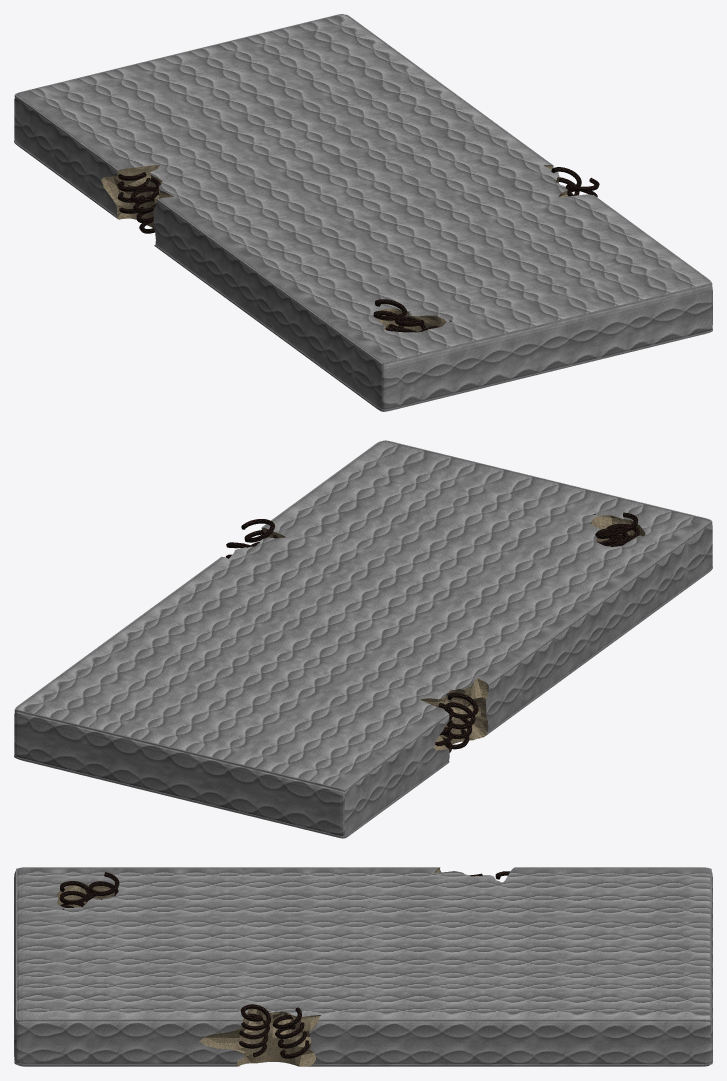
Rendered from tdc-dtr-matr-1.glb.
3 views of the same model, one above another, from view 1: azimuth 30°, elevation 25°; view 2: azimuth 150°, elevation 25°; view 3: azimuth 270°, elevation 25° (orthographic). The views are drawn at different scales.
Parts seen in each view (by area): view 1: tdc-dtr-matr-1; view 2: tdc-dtr-matr-1; view 3: tdc-dtr-matr-1.
Boxes of the visible parts, left/top/right/bottom form: tdc-dtr-matr-1: left=14, top=14, right=712, bottom=411; tdc-dtr-matr-1: left=14, top=440, right=712, bottom=838; tdc-dtr-matr-1: left=14, top=867, right=712, bottom=1066.
Bounding box in the file's own units: 0.4861 × 0.0897 × 0.8946.
Materials: 4 (4 with a texture image).
